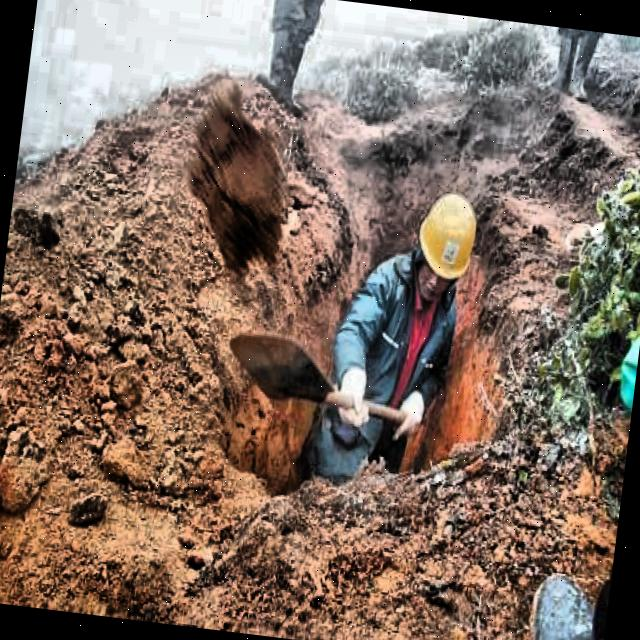helmet: (403, 178, 489, 316)
